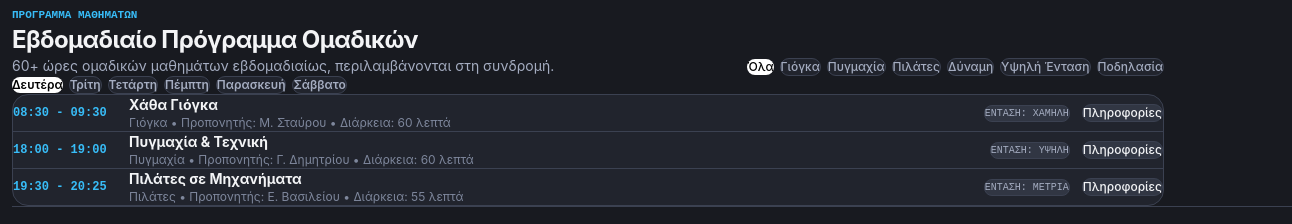
Timetable (the public class schedule) › filters the selected day by category and can go back to all
Expected: the text "Χάθα Γιόγκα" is shown, [129,96,218,113]
# Two Monday classes share the Boxing category? No: Yoga, Boxing, Pilates.
Click the button "Πυγμαχία": {"x": 856, "y": 67} [827,58,886,76]
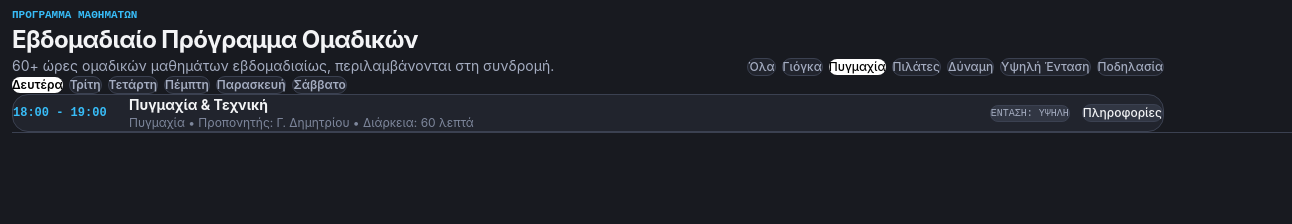
Expected: the text "Πυγμαχία & Τεχνική" is shown, [129,96,268,113]
Result: the text "Χάθα Γιόγκα" is gone
Click the button "Όλα": {"x": 761, "y": 67} [747,58,776,76]
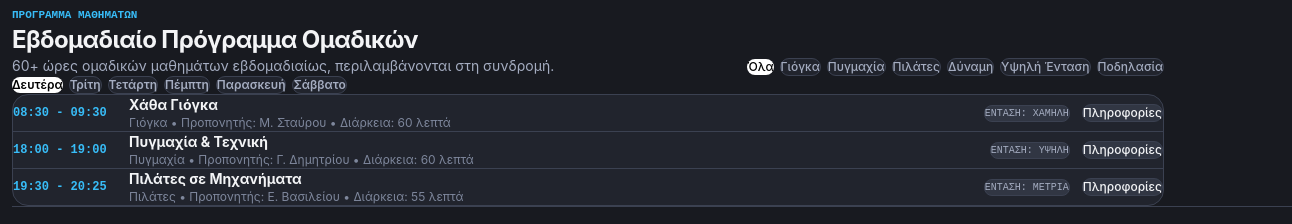
Result: the text "Χάθα Γιόγκα" is shown at [129,96,218,113]
